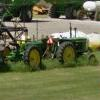Tractor: (10, 21, 97, 72)
